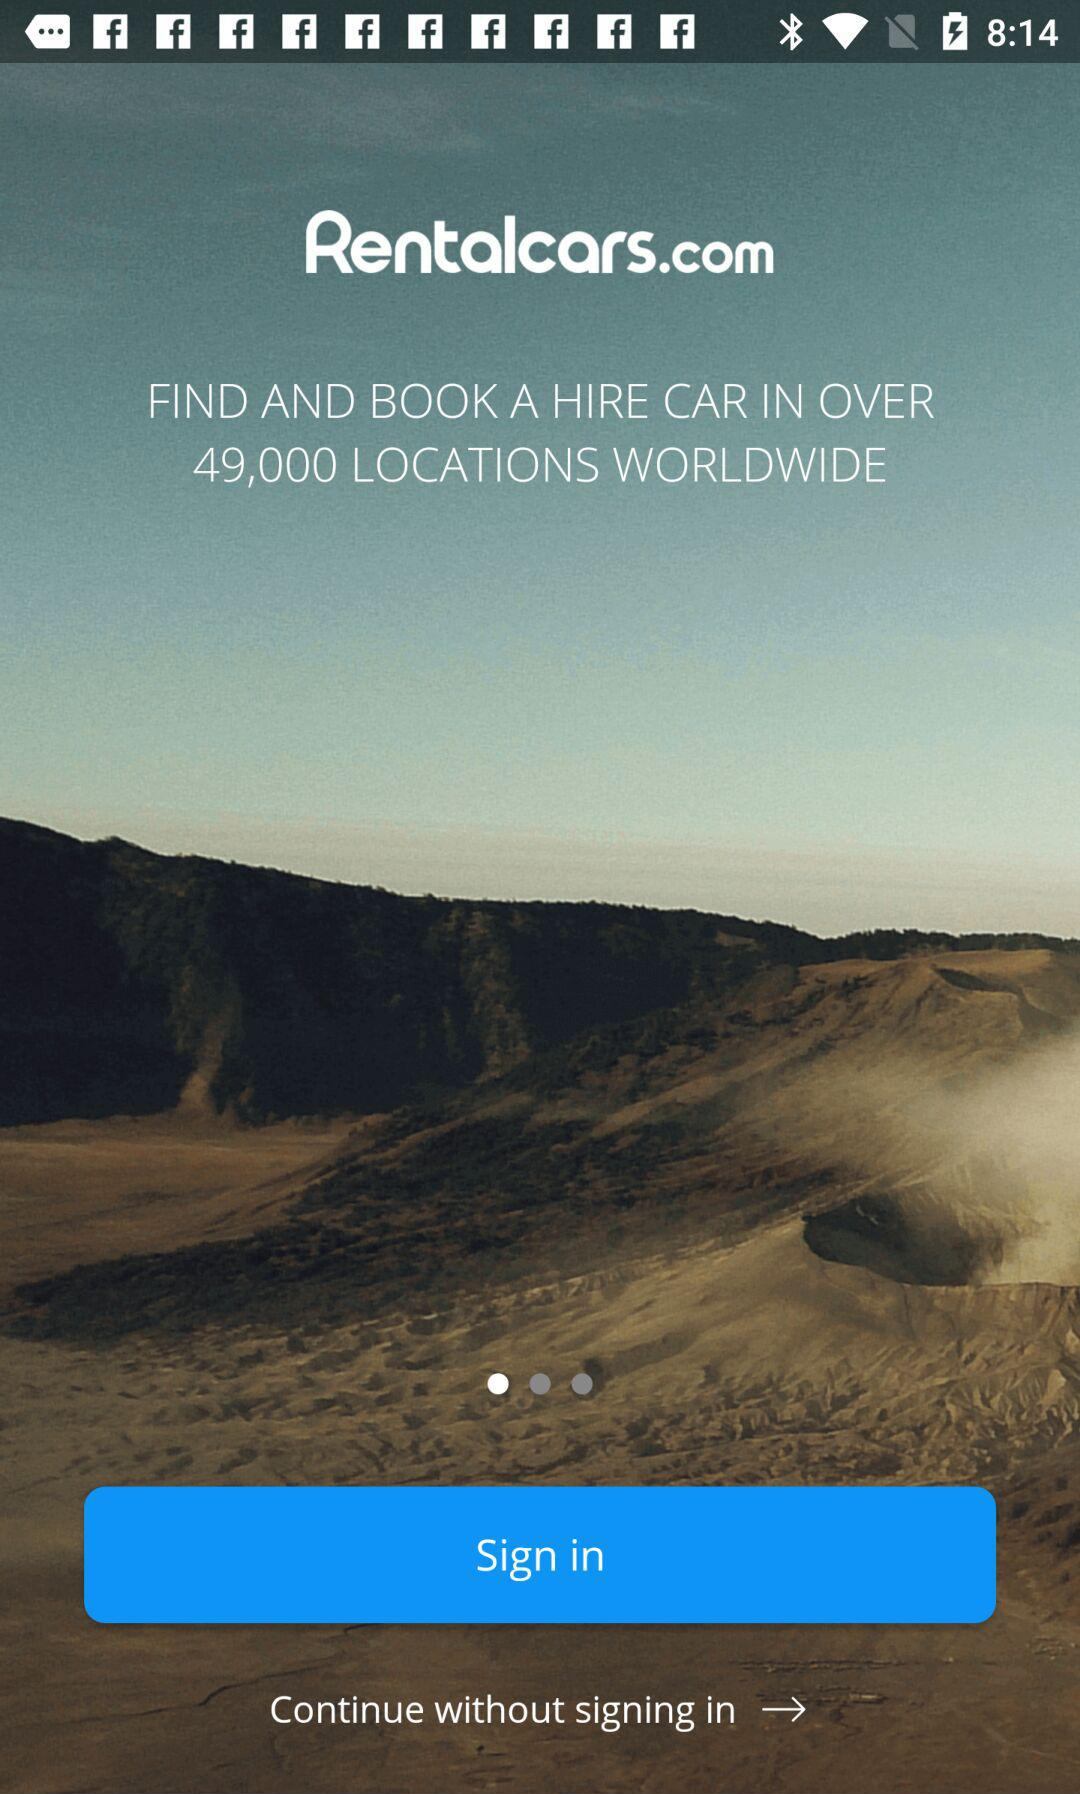BackgroundImage: (1, 64, 1080, 1794)
Icon: (761, 1697, 807, 1724)
PageIndicator: (486, 1371, 594, 1397)
Text: (150, 382, 937, 488), (305, 209, 775, 278), (272, 1695, 735, 1732)
TextButton: (85, 1485, 997, 1624)
UpperTaskBar: (1, 1, 1080, 64)
